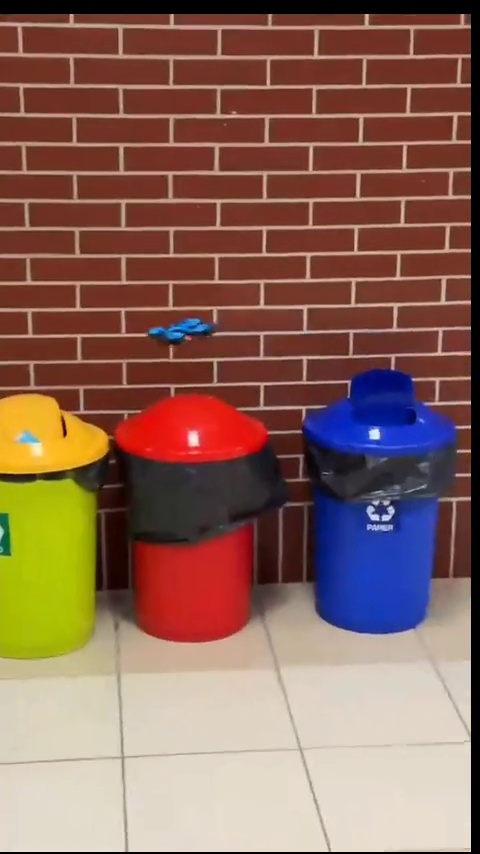drone: (145, 319, 224, 356)
